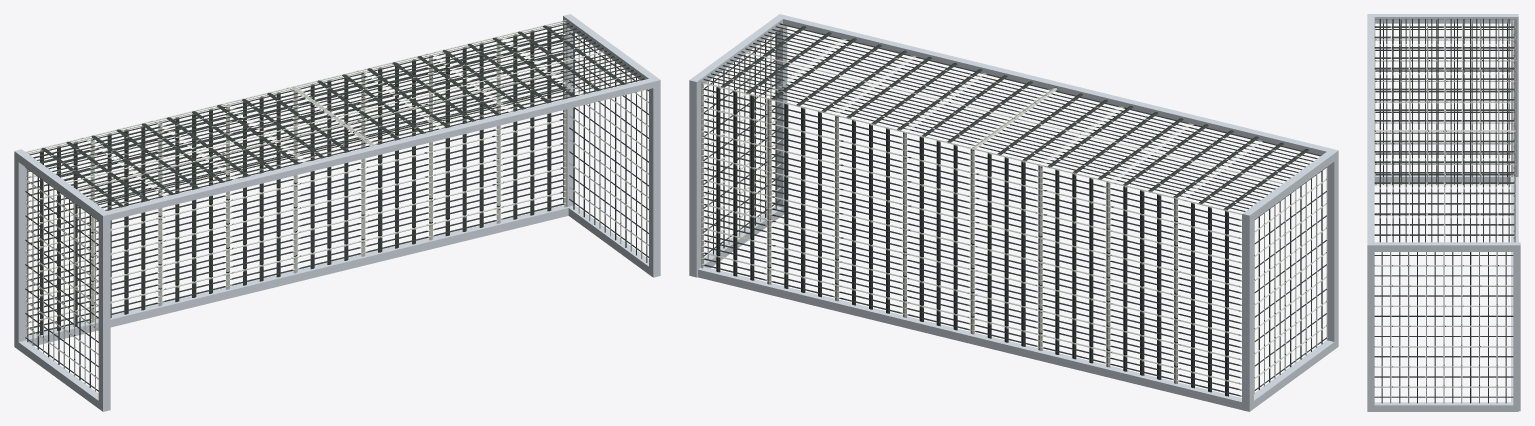
File: porteria_texturizada.obj
The picture shows the model from 3 angles, left to right: view 1: azimuth 30°, elevation 25°; view 2: azimuth 150°, elevation 25°; view 3: azimuth 270°, elevation 25°; orthographic projection. The views are drawn at different scales.
Visible parts, largest first — view 1: Plane_Cuerda_de_red_|_nylon_blanco, Plane.005_Cuerda_de_red_|_nylon_blanco, Cube.005_Estructura_|_aluminio_esmaltado, Cube.002_Estructura_|_aluminio_esmaltado, Plane.001_Cuerda_de_red_|_nylon_blanco, Plane.004_Cuerda_de_red_|_nylon_blanco, Cube_Estructura_|_aluminio_esmaltado, Cube.001_Estructura_|_aluminio_esmaltado, Cube.006_Estructura_|_aluminio_esmaltado, Cube.007_Estructura_|_aluminio_esmaltado, Cube.008_Estructura_|_aluminio_esmaltado.001, Cube.003_Estructura_|_aluminio_esmaltado (+2 smaller); view 2: Plane_Cuerda_de_red_|_nylon_blanco, Plane.005_Cuerda_de_red_|_nylon_blanco, Cube.005_Estructura_|_aluminio_esmaltado, Plane.001_Cuerda_de_red_|_nylon_blanco, Cube.002_Estructura_|_aluminio_esmaltado, Plane.004_Cuerda_de_red_|_nylon_blanco, Cube.007_Estructura_|_aluminio_esmaltado, Cube.006_Estructura_|_aluminio_esmaltado, Cube_Estructura_|_aluminio_esmaltado, Cube.001_Estructura_|_aluminio_esmaltado, Cube.008_Estructura_|_aluminio_esmaltado.001, Cube.003_Estructura_|_aluminio_esmaltado (+2 smaller); view 3: Plane.005_Cuerda_de_red_|_nylon_blanco, Plane.004_Cuerda_de_red_|_nylon_blanco, Plane.001_Cuerda_de_red_|_nylon_blanco, Cube.002_Estructura_|_aluminio_esmaltado, Cube.004_Estructura_|_aluminio_esmaltado, Cube.009_Estructura_|_aluminio_esmaltado.002, Cube.008_Estructura_|_aluminio_esmaltado.001, Cube.007_Estructura_|_aluminio_esmaltado, Cube.001_Estructura_|_aluminio_esmaltado, Cube.006_Estructura_|_aluminio_esmaltado, Cube.003_Estructura_|_aluminio_esmaltado, Cube.005_Estructura_|_aluminio_esmaltado (+1 smaller).
Part boxes in pixels (x1,y1,x2,y2): Plane_Cuerda_de_red_|_nylon_blanco: [26, 22, 566, 337]; Plane.005_Cuerda_de_red_|_nylon_blanco: [25, 20, 645, 210]; Cube.005_Estructura_|_aluminio_esmaltado: [26, 205, 571, 345]; Cube.002_Estructura_|_aluminio_esmaltado: [98, 77, 660, 221]; Plane.001_Cuerda_de_red_|_nylon_blanco: [25, 167, 98, 391]; Plane.004_Cuerda_de_red_|_nylon_blanco: [569, 31, 648, 262]; Cube_Estructura_|_aluminio_esmaltado: [98, 217, 110, 411]; Cube.001_Estructura_|_aluminio_esmaltado: [649, 84, 660, 277]; Cube.006_Estructura_|_aluminio_esmaltado: [14, 155, 25, 349]; Cube.007_Estructura_|_aluminio_esmaltado: [563, 14, 574, 206]; Cube.008_Estructura_|_aluminio_esmaltado.001: [14, 149, 107, 220]; Cube.003_Estructura_|_aluminio_esmaltado: [14, 340, 100, 408]; Plane_Cuerda_de_red_|_nylon_blanco: [701, 83, 1241, 396]; Plane.005_Cuerda_de_red_|_nylon_blanco: [700, 23, 1321, 214]; Cube.005_Estructura_|_aluminio_esmaltado: [698, 266, 1245, 410]; Plane.001_Cuerda_de_red_|_nylon_blanco: [1244, 166, 1327, 410]; Cube.002_Estructura_|_aluminio_esmaltado: [775, 14, 1338, 157]; Plane.004_Cuerda_de_red_|_nylon_blanco: [703, 32, 780, 263]; Cube.007_Estructura_|_aluminio_esmaltado: [689, 77, 700, 277]; Cube.006_Estructura_|_aluminio_esmaltado: [1242, 217, 1253, 411]; Cube_Estructura_|_aluminio_esmaltado: [1327, 155, 1338, 349]; Cube.001_Estructura_|_aluminio_esmaltado: [775, 25, 787, 214]; Cube.008_Estructura_|_aluminio_esmaltado.001: [1242, 150, 1334, 223]; Cube.003_Estructura_|_aluminio_esmaltado: [1242, 340, 1334, 411]; Plane.005_Cuerda_de_red_|_nylon_blanco: [1374, 18, 1515, 242]; Plane.004_Cuerda_de_red_|_nylon_blanco: [1374, 252, 1513, 403]; Plane.001_Cuerda_de_red_|_nylon_blanco: [1374, 19, 1516, 185]; Cube.002_Estructura_|_aluminio_esmaltado: [1367, 14, 1374, 249]; Cube.004_Estructura_|_aluminio_esmaltado: [1371, 402, 1518, 411]; Cube.009_Estructura_|_aluminio_esmaltado.002: [1371, 242, 1518, 251]; Cube.008_Estructura_|_aluminio_esmaltado.001: [1371, 14, 1518, 23]; Cube.007_Estructura_|_aluminio_esmaltado: [1513, 242, 1520, 411]; Cube.001_Estructura_|_aluminio_esmaltado: [1367, 248, 1374, 411]; Cube.006_Estructura_|_aluminio_esmaltado: [1511, 20, 1518, 176]; Cube.003_Estructura_|_aluminio_esmaltado: [1375, 175, 1510, 182]; Cube.005_Estructura_|_aluminio_esmaltado: [1511, 177, 1518, 403].
Bounding box in the file's own units: 7.42 × 2.51 × 2.08.
Materials: 4 (1 with a texture image).
